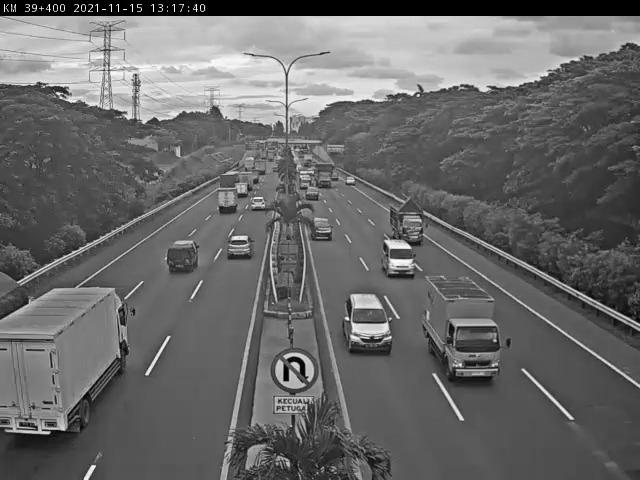car: (344, 292, 395, 352), (382, 237, 416, 277), (226, 234, 254, 259), (310, 216, 333, 241)
truck-l-: (1, 284, 134, 439)
truck-m-: (425, 276, 509, 378), (390, 196, 425, 245)
truck-s-: (166, 238, 201, 275)
